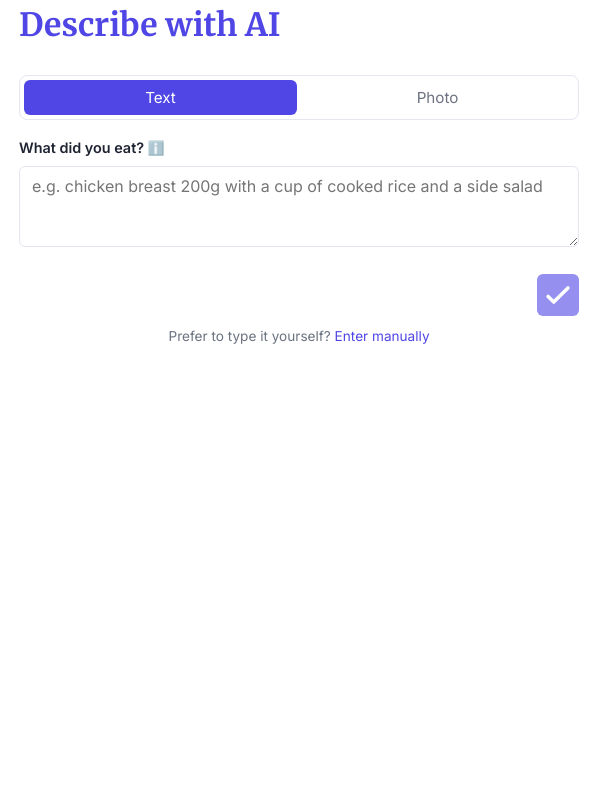
Scenario: AiEntryPage › changing the quantity rescales calories from the per-unit ratio
Step 1. Type "rice" into the text box labelled "What did you eat? ℹ️" → coordinates (299, 206), box [19, 166, 579, 247]
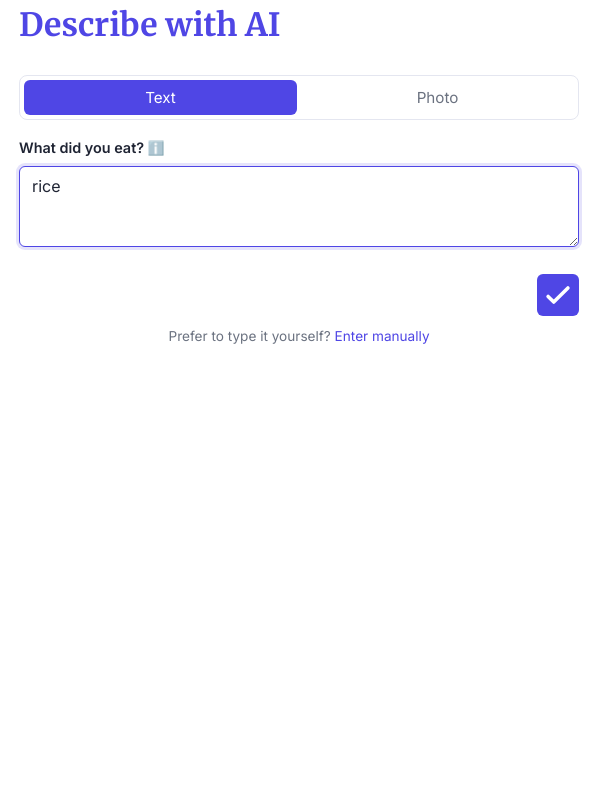
Step 2. Click the button named "Estimate" → coordinates (558, 295), box [537, 274, 579, 316]
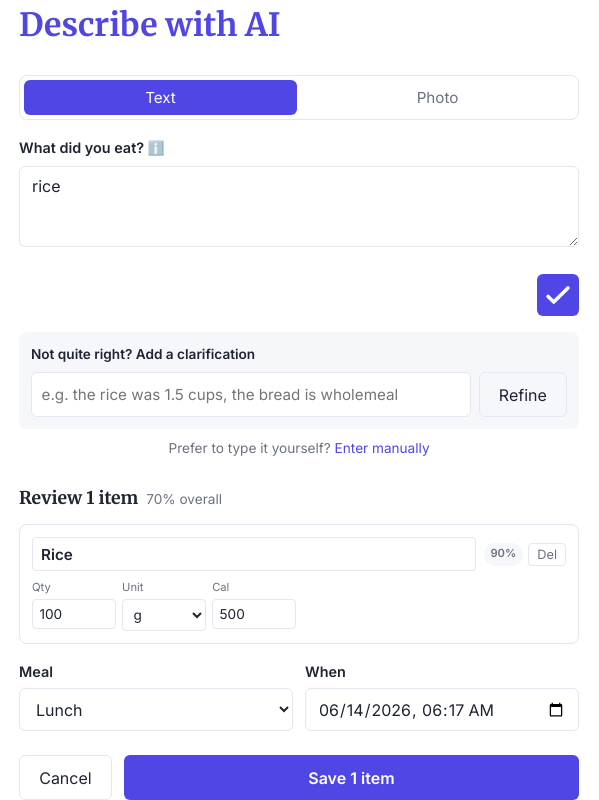
Result: the number field showing "500" is shown at [212, 599, 296, 629]
Step 3. Replace the text in the number field showing "100" with "200" → coordinates (74, 614), box [32, 599, 116, 629]
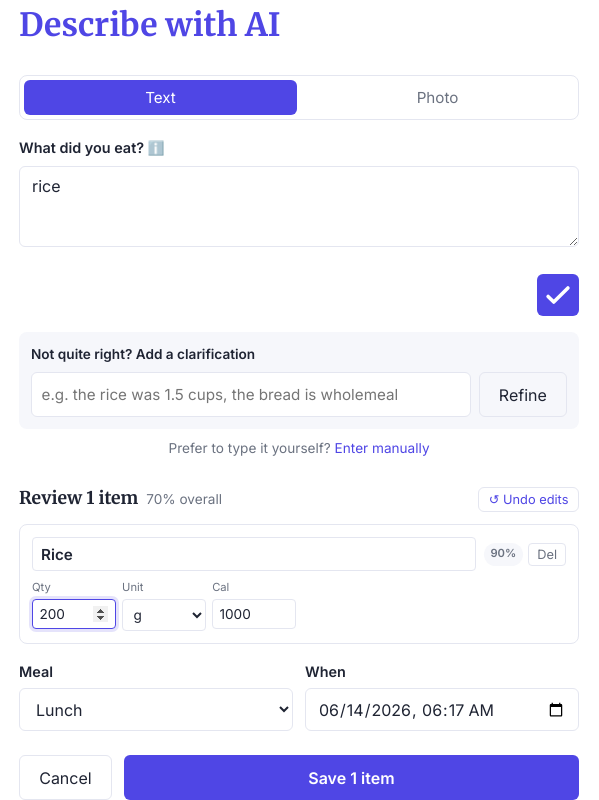
Result: the number field showing "1000" is shown at [212, 599, 296, 629]
